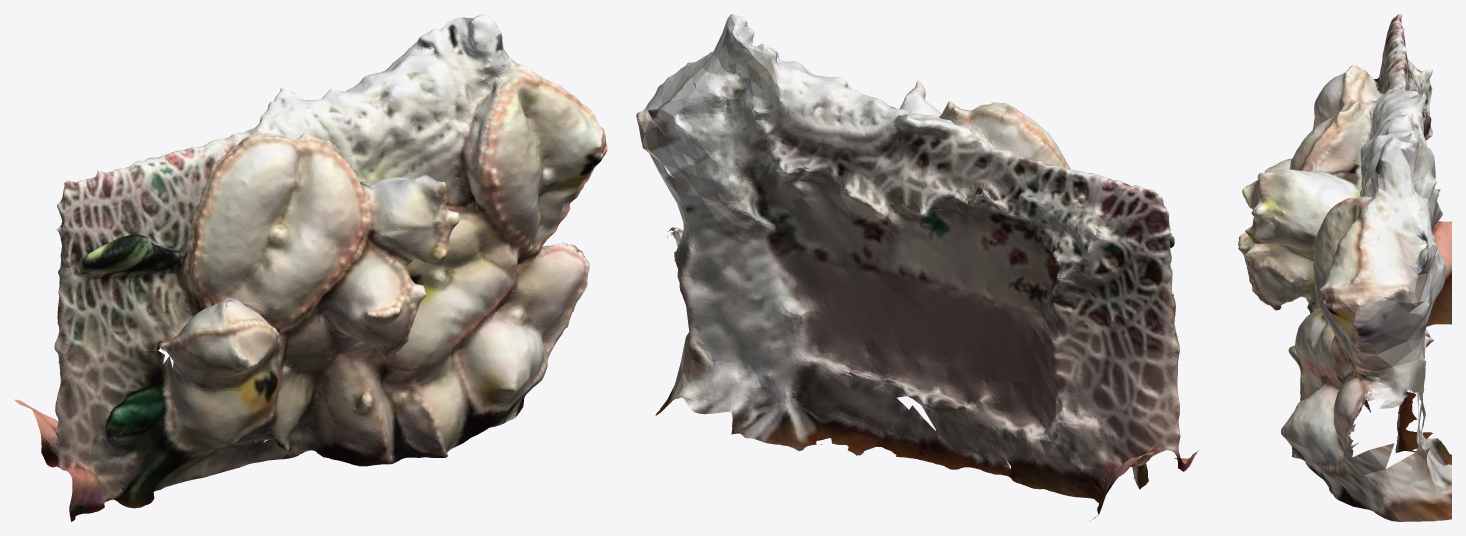
Rendered from gardenofoysters-c.glb.
The picture shows the model from 3 angles, left to right: view 1: azimuth 30°, elevation 25°; view 2: azimuth 150°, elevation 25°; view 3: azimuth 270°, elevation 25°; orthographic projection. The views are drawn at different scales.
Parts seen in each view (by area): view 1: mesh; view 2: mesh; view 3: mesh.
Part boxes in pixels (x1,y1,x2,y2): mesh: (14,14,607,521); mesh: (636,14,1198,521); mesh: (1238,14,1451,521).
Size of the model in its own units: 0.2526 by 0.1704 by 0.0919.
Materials: 1 (1 with a texture image).
